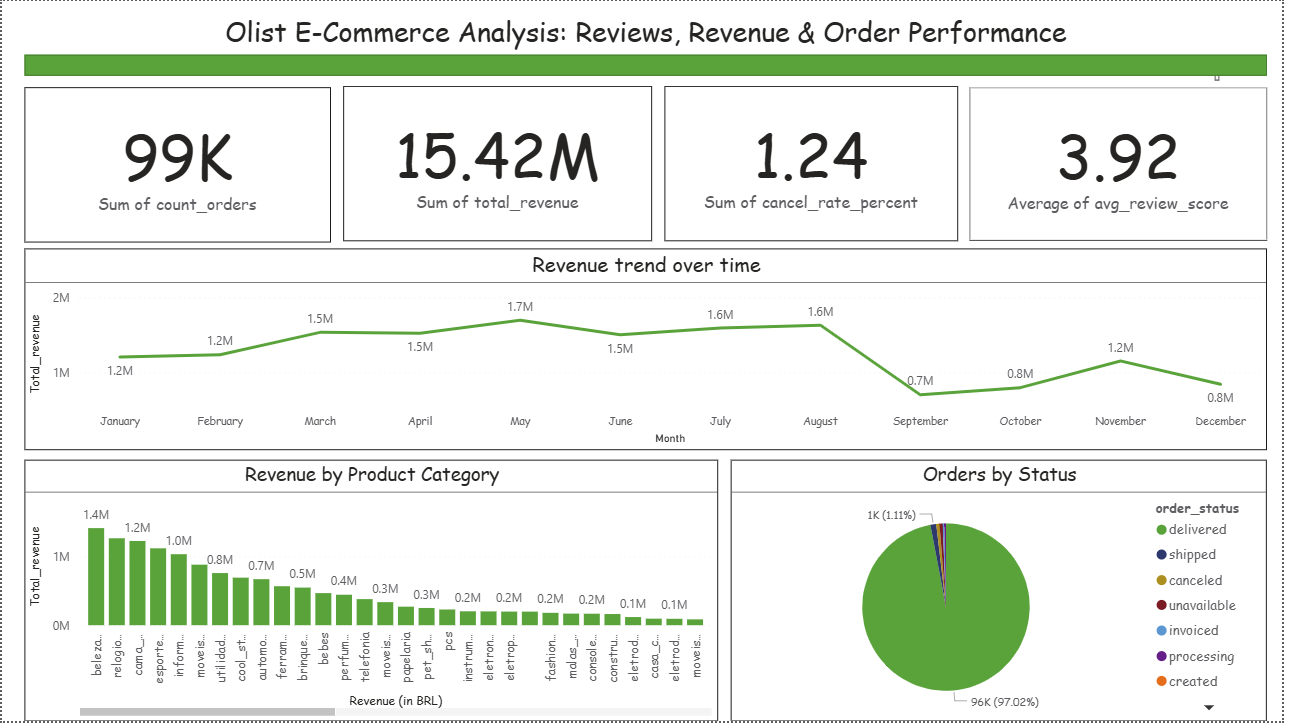

What the dashboard file says about the page in this screenshot:
{"tool":"powerbi","page":{"name":"Page 1","canvas":[1280,720],"ordinal":0},"visuals":[{"type":"lineChart","title":"Revenue trend over time","fields":{"Category":["Revenue by month.order_month.Variation.Date Hierarchy.Month"],"Y":["Sum(Revenue by month.total_revenue)"]},"box":[22.5,247.5,1242.5,201.2],"z":0},{"type":"pieChart","title":"Orders by Status","fields":{"Category":["Order Status Summary.order_status"],"Y":["Sum(Order Status Summary.count_orders)"]},"box":[728.8,458.8,536.2,261.2],"z":1000},{"type":"columnChart","title":"Revenue by Product Category","fields":{"Category":["Revenue by product category.product_category_name"],"Y":["Sum(Revenue by product category.total_revenue)"]},"box":[22.5,458.8,693.8,261.2],"z":2000},{"type":"card","fields":{"Values":["Avg(Average Review Score Over Time.avg_review_score)"]},"box":[967.5,86.2,297.5,153.8],"z":3000},{"type":"card","fields":{"Values":["Sum(Revenue by month.total_revenue)"]},"box":[341.2,85,308.8,155],"z":5000},{"type":"card","fields":{"Values":["Sum(Order Status Summary.Total orders)"]},"box":[22.5,86.2,306.2,155],"z":6000},{"type":"shape","title":"Olist E-Commerce Analysis: Reviews, Revenue & Order Performance","box":[22.5,11.2,1242.5,63.8],"z":7000},{"type":"card","fields":{"Values":["Min(Returns & Cancellations.cancel_rate_percent)"]},"box":[661.2,85,297.5,155],"z":7001}]}

Visuals, with their boxes in screenshot pixels (x1, y1, x2, y2), scaled from the page's 1280x720 canvas onto the 1290x728 screenshot:
"Revenue trend over time" lineChart: box(23, 250, 1275, 454)
"Orders by Status" pieChart: box(734, 464, 1275, 727)
"Revenue by Product Category" columnChart: box(23, 464, 722, 727)
card - Avg(Average Review Score Over Time.avg_review_score): box(975, 87, 1275, 243)
card - Sum(Revenue by month.total_revenue): box(344, 86, 655, 243)
card - Sum(Order Status Summary.Total orders): box(23, 87, 331, 244)
"Olist E-Commerce Analysis: Reviews, Revenue & Order Performance" shape: box(23, 11, 1275, 76)
card - Min(Returns & Cancellations.cancel_rate_percent): box(666, 86, 966, 243)
